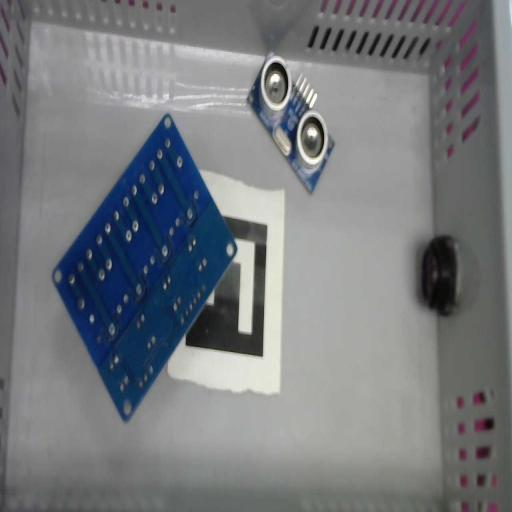QR: (167, 169, 285, 396)
relay_module: (52, 112, 238, 424)
ultrasonic_hc-sr04: (246, 50, 334, 195)
